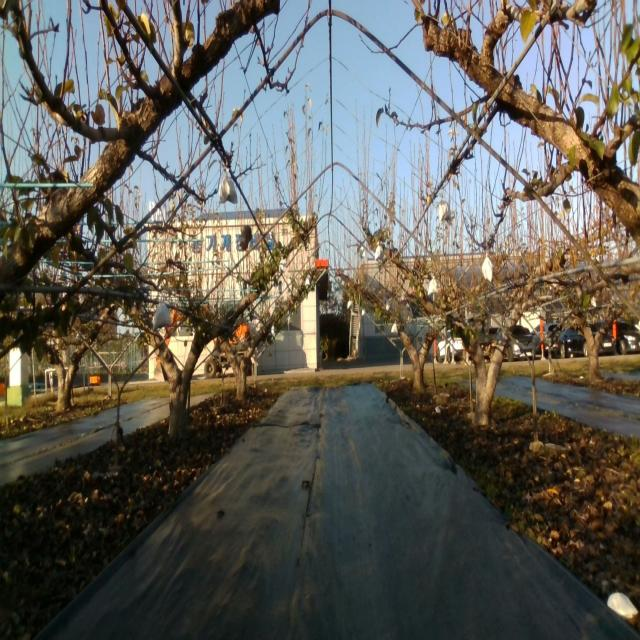pearbags: (217, 168, 238, 205), (152, 301, 172, 331), (481, 254, 493, 282), (439, 198, 452, 222), (427, 274, 438, 298)
